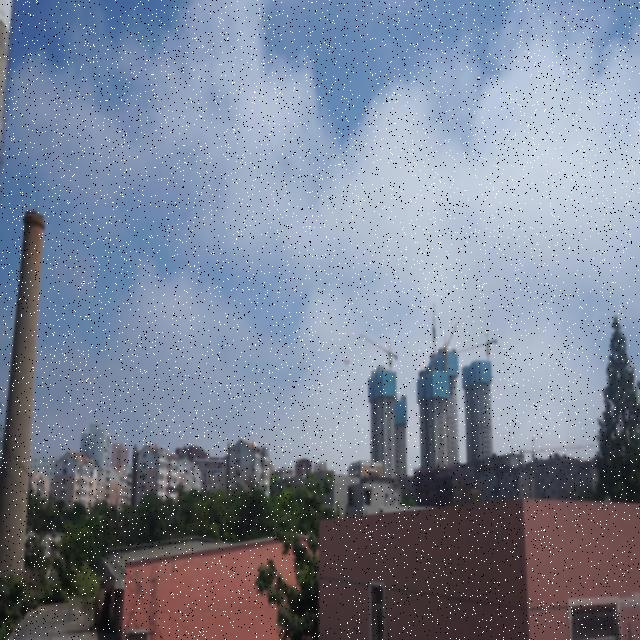UAV: (342, 356, 351, 366)
